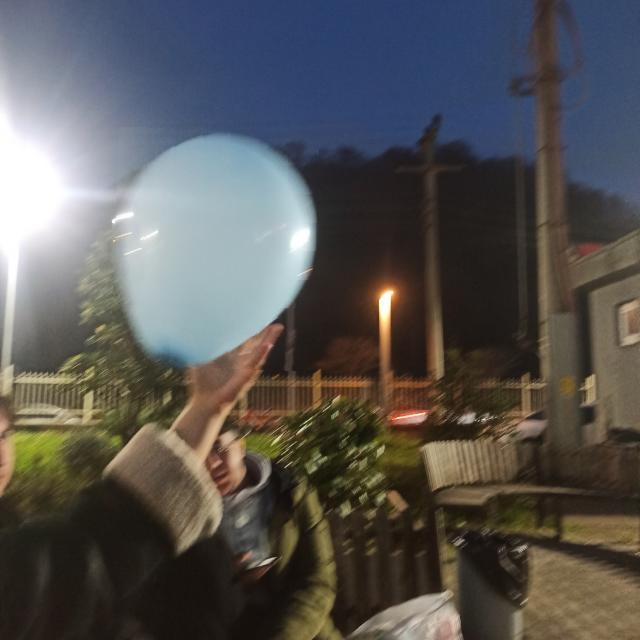balloon: (112, 128, 317, 370)
